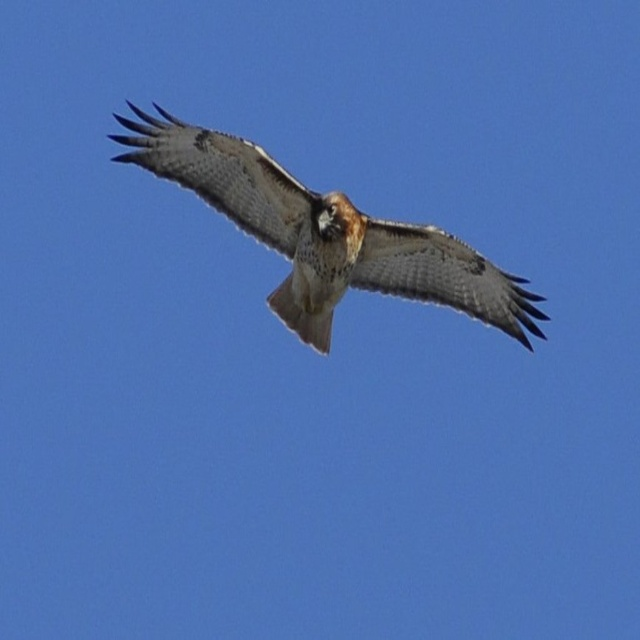Eagle: (109, 98, 552, 361)
